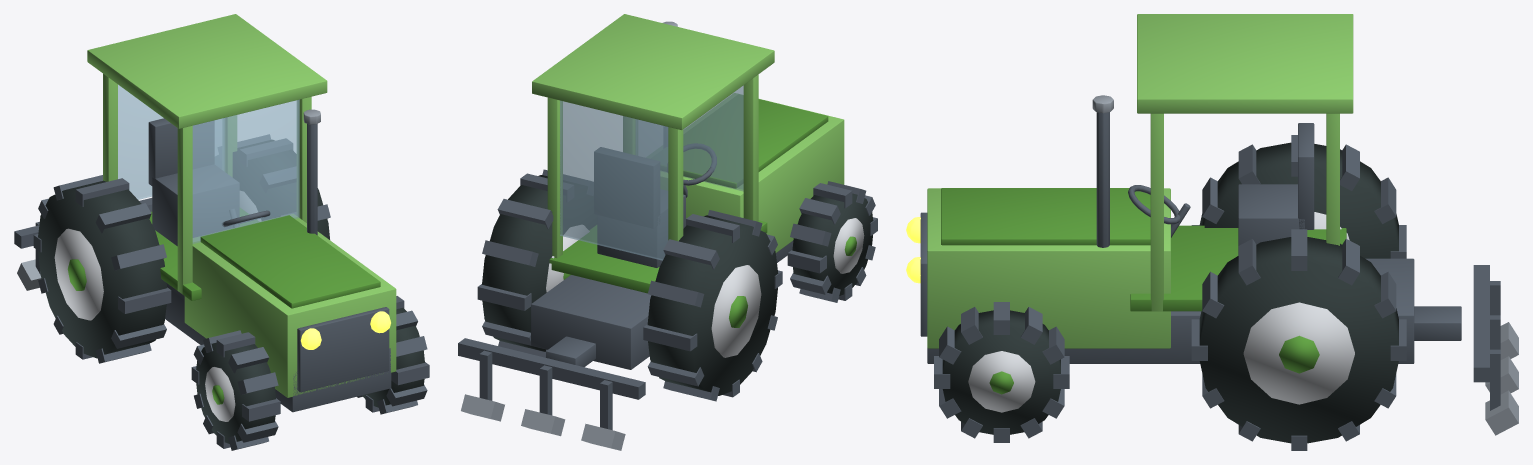
The model's file is tractor.glb.
The picture shows the model from 3 angles, left to right: view 1: azimuth 30°, elevation 25°; view 2: azimuth 150°, elevation 25°; view 3: azimuth 270°, elevation 25°; orthographic projection. The views are drawn at different scales.
Visible parts, largest first — view 1: TractorBody, WheelBLMesh, WheelFLMesh, WheelBRMesh, WheelFRMesh, PlowMesh; view 2: TractorBody, WheelBLMesh, WheelBRMesh, WheelFLMesh, PlowMesh; view 3: TractorBody, WheelBRMesh, WheelFRMesh, WheelBLMesh, PlowMesh.
Boxes of the visible parts, x1=… form: TractorBody: x1=87, y1=14, x2=396, y2=412; WheelBLMesh: x1=33, y1=175, x2=171, y2=363; WheelFLMesh: x1=191, y1=330, x2=280, y2=450; WheelBRMesh: x1=233, y1=134, x2=330, y2=239; WheelFRMesh: x1=357, y1=296, x2=429, y2=414; PlowMesh: x1=14, y1=198, x2=152, y2=290; TractorBody: x1=531, y1=14, x2=844, y2=369; WheelBLMesh: x1=643, y1=210, x2=782, y2=401; WheelBRMesh: x1=477, y1=169, x2=596, y2=357; WheelFLMesh: x1=787, y1=181, x2=877, y2=302; PlowMesh: x1=458, y1=338, x2=645, y2=450; TractorBody: x1=906, y1=14, x2=1461, y2=363; WheelBRMesh: x1=1191, y1=229, x2=1406, y2=450; WheelFRMesh: x1=934, y1=302, x2=1069, y2=442; WheelBLMesh: x1=1191, y1=135, x2=1406, y2=258; PlowMesh: x1=1473, y1=265, x2=1518, y2=435.
Size of the model in its own units: 2.18 by 2.74 by 4.53.
